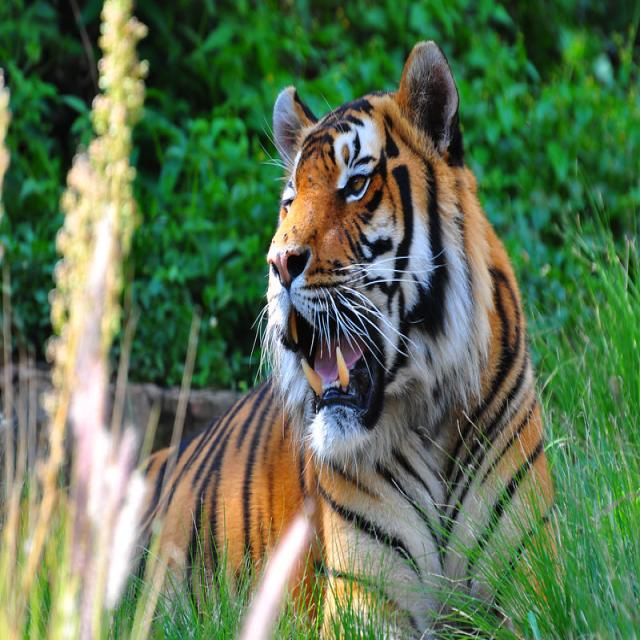Tiger: (9, 37, 580, 639)
